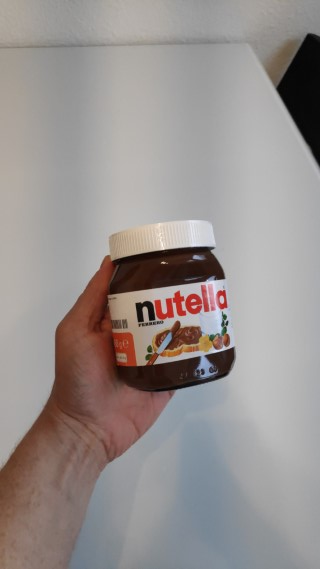nutella: (105, 218, 237, 394)
